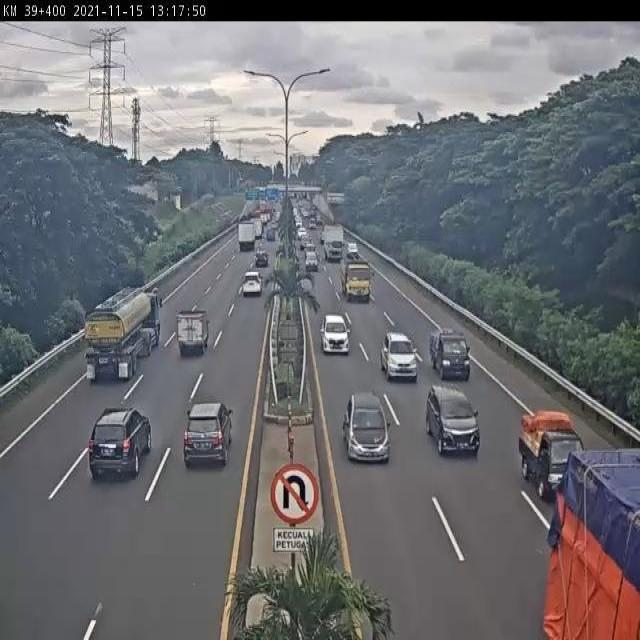Car: (87, 407, 153, 480), (426, 384, 480, 458), (184, 399, 234, 468), (342, 392, 390, 463), (429, 328, 471, 381), (380, 332, 419, 382), (319, 313, 351, 356), (242, 271, 263, 297), (304, 250, 319, 272), (254, 249, 268, 267), (346, 242, 358, 258)
Truck: (544, 446, 640, 638), (82, 285, 162, 383), (518, 410, 582, 500), (176, 308, 211, 356), (338, 260, 372, 300)
